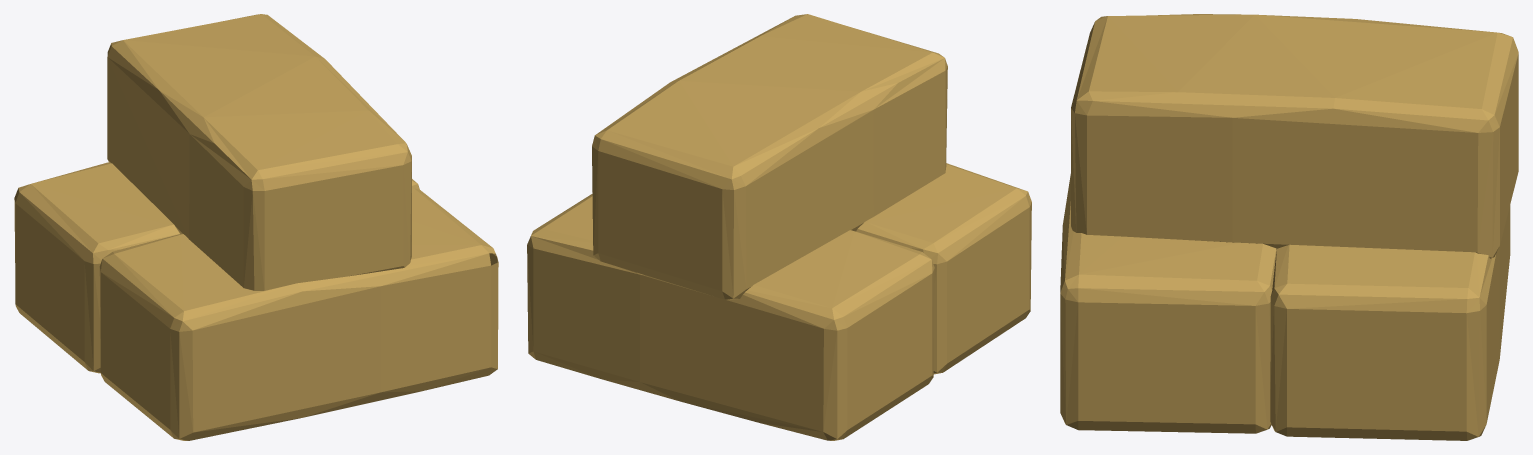
Rendered from hay_bale_stack_b.glb.
The picture shows the model from 3 angles, left to right: view 1: azimuth 30°, elevation 25°; view 2: azimuth 150°, elevation 25°; view 3: azimuth 270°, elevation 25°; orthographic projection. The views are drawn at different scales.
Parts seen in each view (by area): view 1: hay_bale_stack_b_lod0; view 2: hay_bale_stack_b_lod0; view 3: hay_bale_stack_b_lod0.
Part boxes in pixels (<box>): hay_bale_stack_b_lod0: <box>14,14,498,440</box>; hay_bale_stack_b_lod0: <box>527,14,1031,440</box>; hay_bale_stack_b_lod0: <box>1060,14,1518,440</box>.
Size of what is drawn, in the model's own units: 1.01 by 0.7282 by 1.02.
